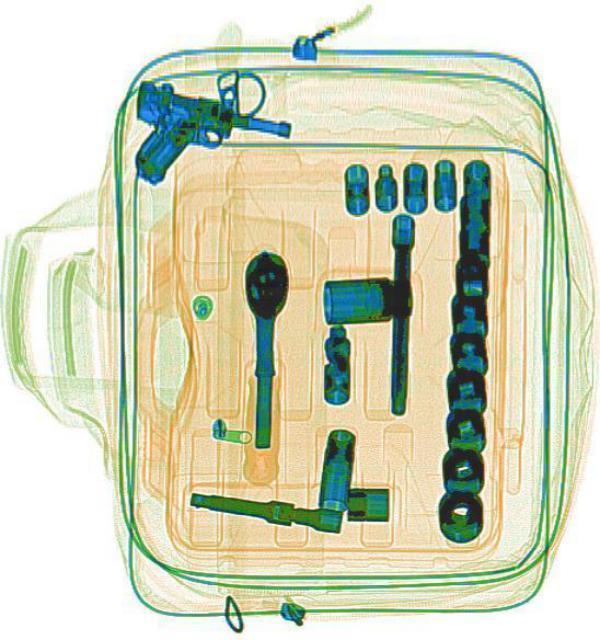Gun: (109, 72, 292, 216)
